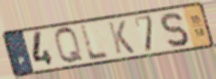4: (31, 29, 58, 69)
7: (133, 14, 154, 53)
K: (106, 19, 137, 56)
L: (79, 23, 112, 62)
Q: (53, 26, 86, 66)
S: (159, 11, 190, 50)
